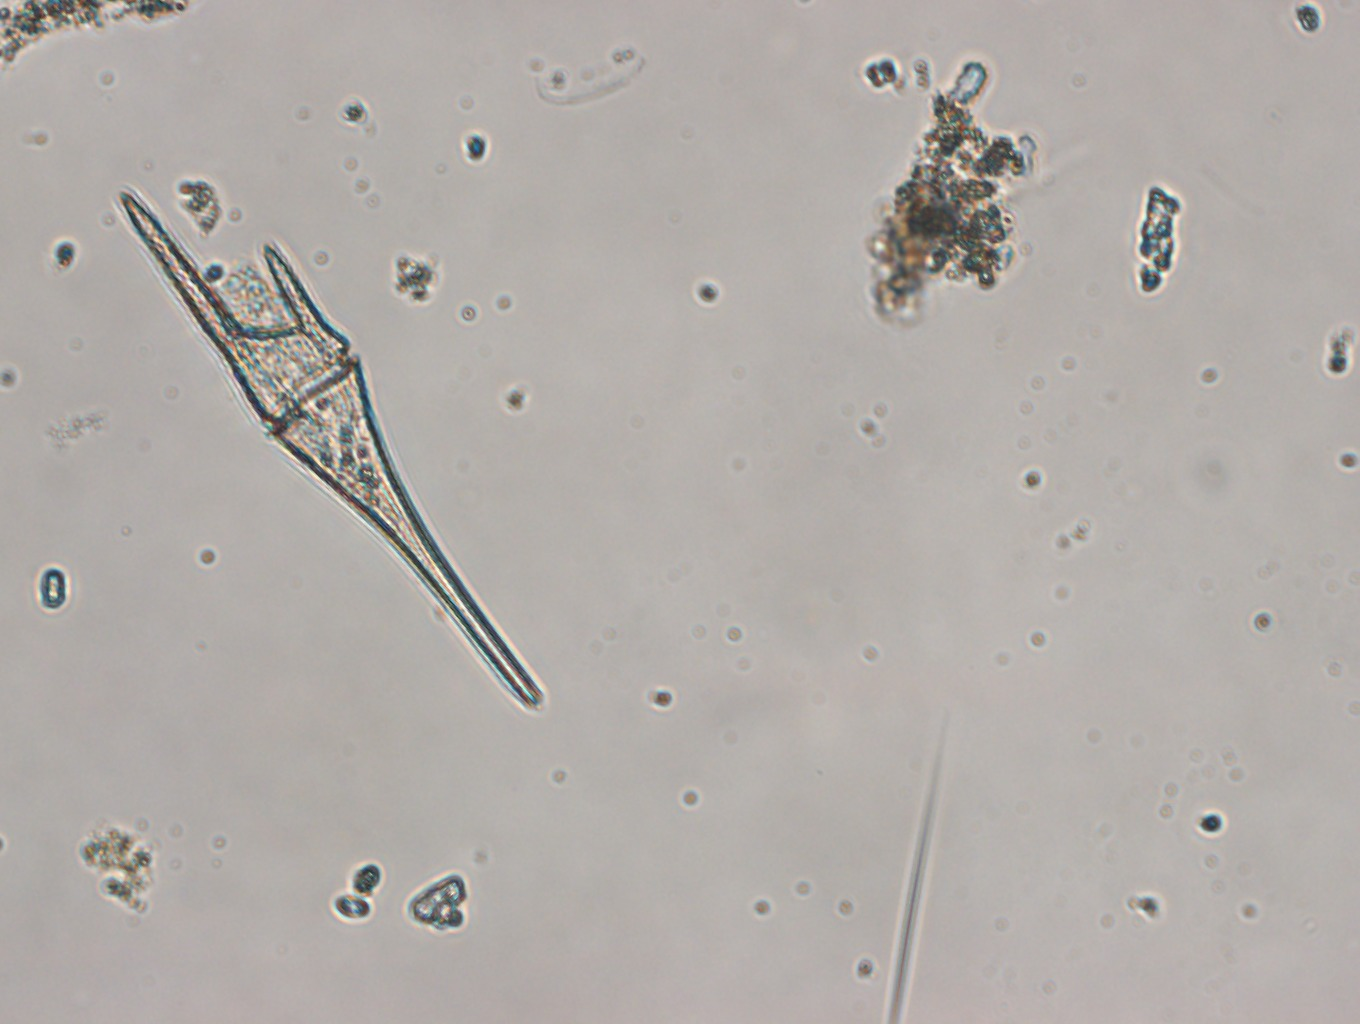ceratium furca: (114, 189, 549, 715)
